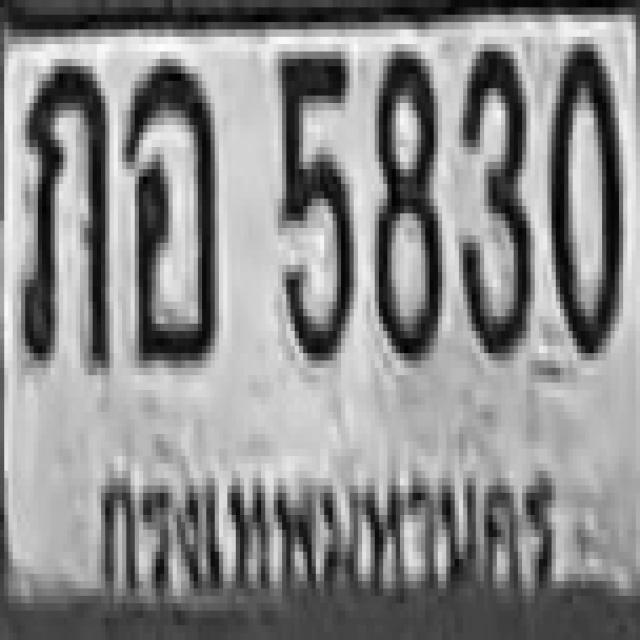0: (547, 37, 619, 353)
3: (457, 37, 528, 353)
41PhorSamPhao: (17, 59, 109, 360)
5: (274, 44, 349, 353)
52OrAng: (122, 55, 215, 357)
8: (370, 44, 438, 353)
Bangkok: (85, 452, 572, 630)
